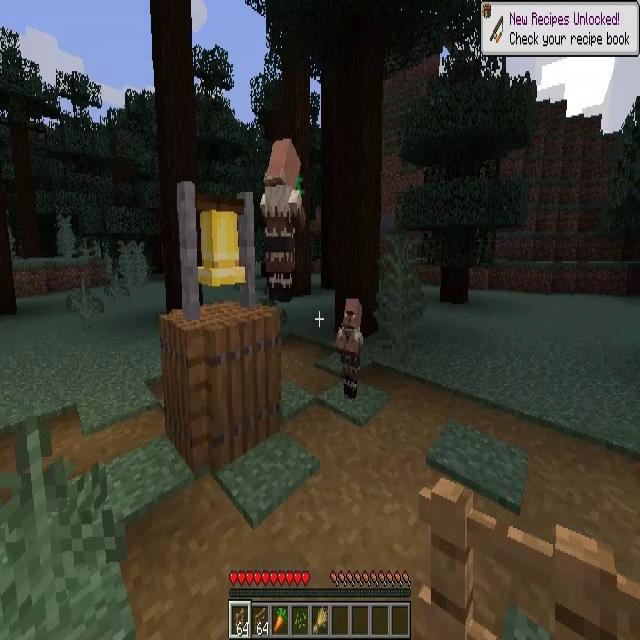people: (260, 139, 306, 298), (335, 296, 363, 399)
